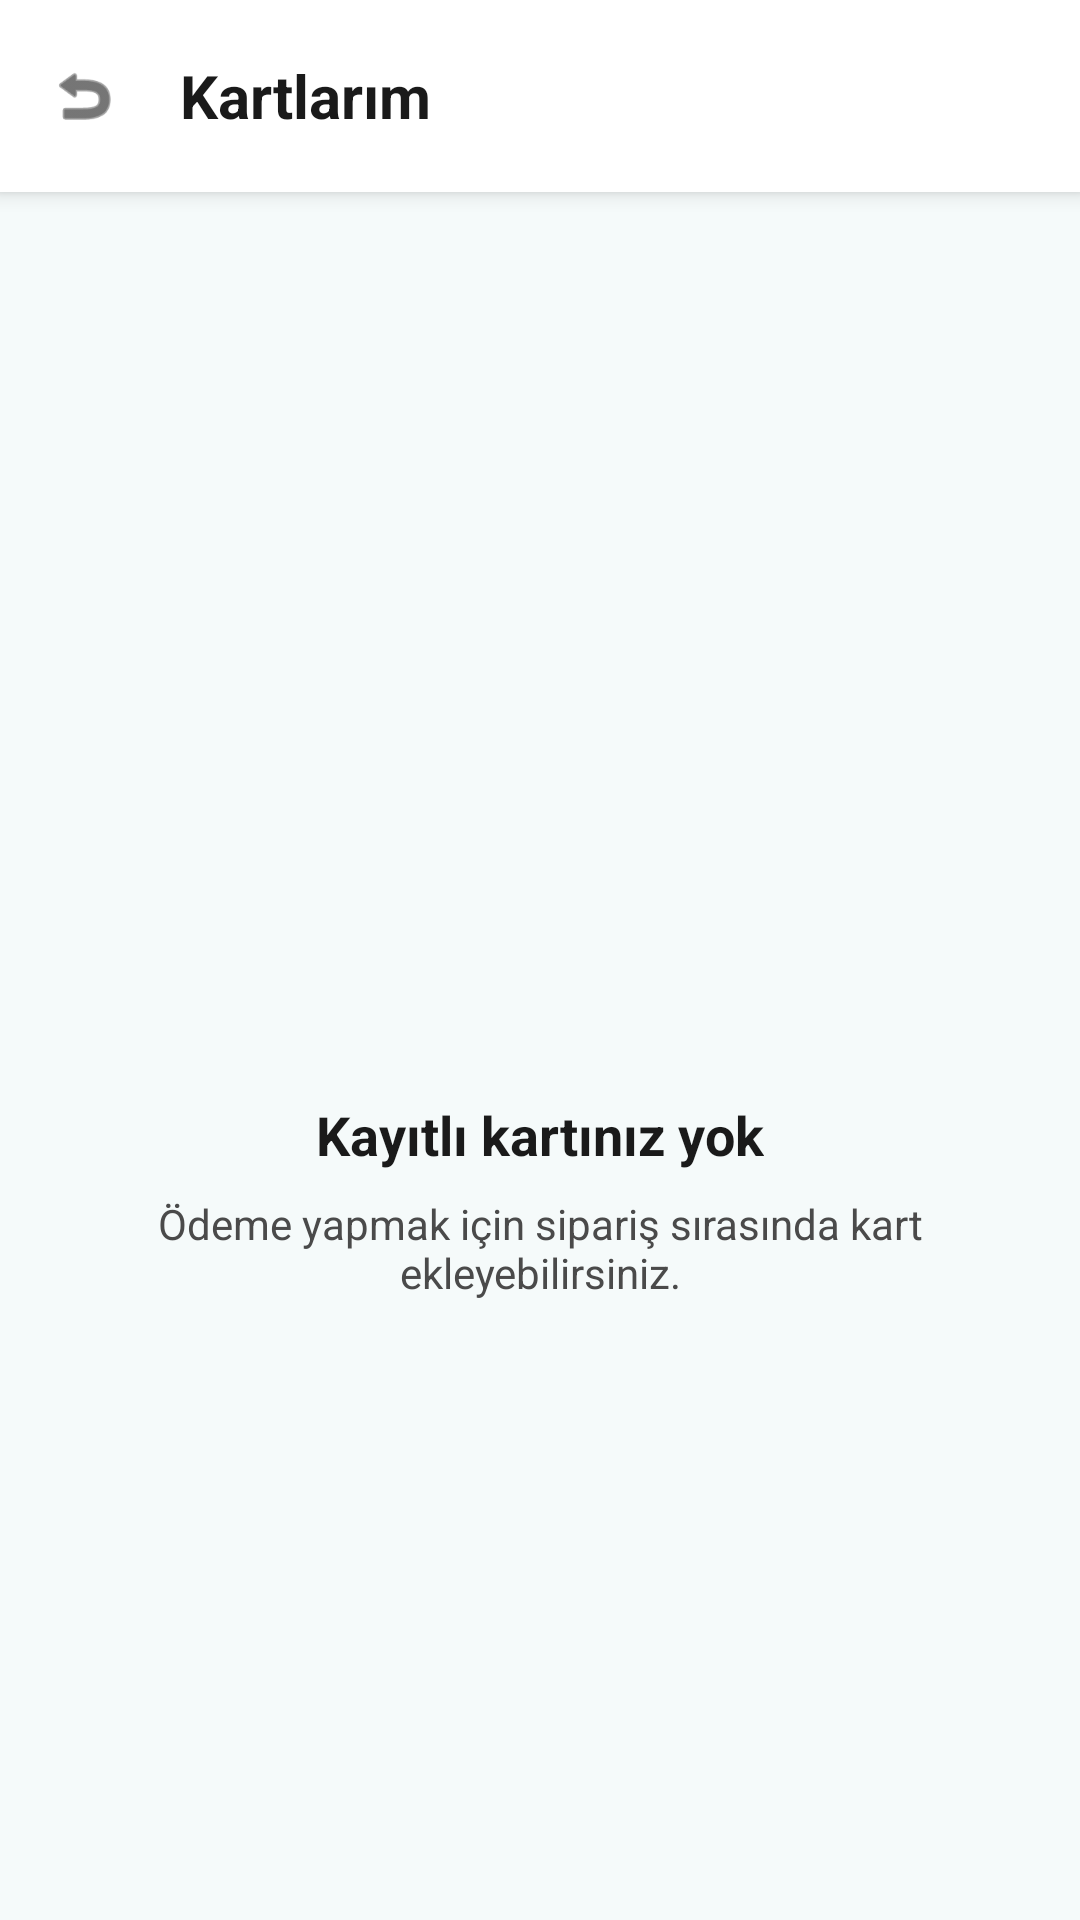

Icons on this 1080×1920 Android screen, each with the point to tap as point (x, y):
Geri: point (85, 96)
